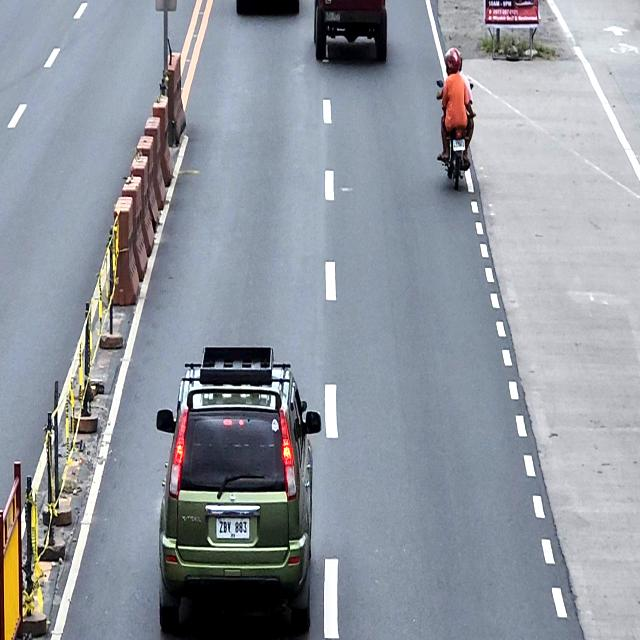Car: (156, 343, 322, 640), (314, 0, 388, 66)
License-Plate: (216, 516, 250, 540), (326, 10, 340, 23), (452, 139, 465, 151)
Motorcycle: (436, 78, 475, 192)
